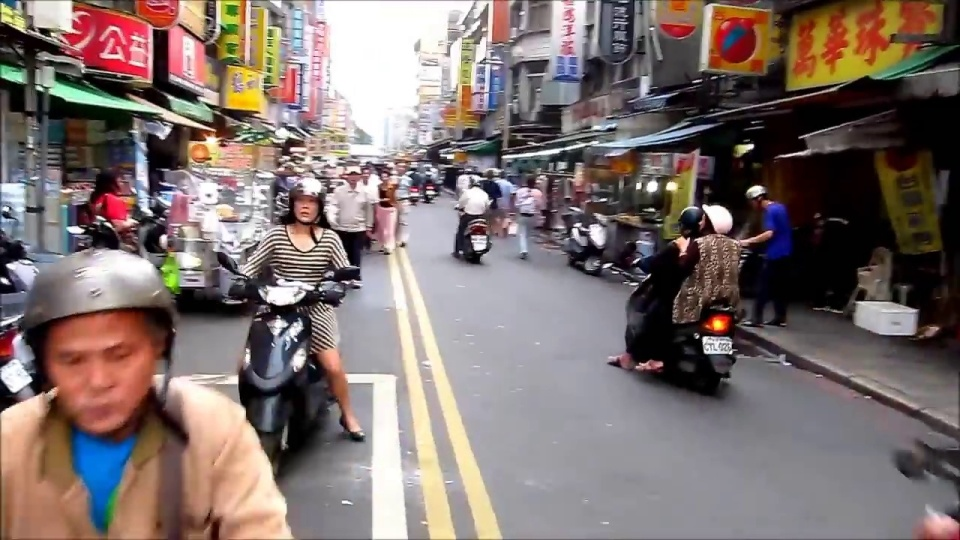person_head: (20, 249, 176, 435), (287, 178, 327, 226), (696, 201, 734, 237), (93, 166, 124, 196), (676, 205, 702, 237), (743, 184, 773, 210), (341, 165, 363, 186), (524, 174, 537, 188), (395, 162, 407, 176), (471, 173, 481, 189), (484, 169, 495, 183), (362, 168, 371, 183), (408, 161, 420, 172), (364, 161, 374, 172), (462, 166, 473, 176), (498, 168, 507, 180), (379, 172, 390, 181), (423, 163, 432, 171)
person_vbox: (0, 245, 296, 540), (230, 172, 370, 441), (632, 195, 745, 378), (603, 201, 701, 372), (737, 179, 792, 331), (324, 159, 372, 291), (448, 168, 493, 264), (512, 172, 543, 261), (87, 164, 131, 221), (392, 159, 414, 249), (375, 170, 398, 255), (476, 163, 504, 228), (354, 165, 374, 254), (362, 158, 381, 231), (493, 165, 515, 221), (453, 165, 477, 210), (420, 162, 438, 202), (406, 159, 420, 204)
